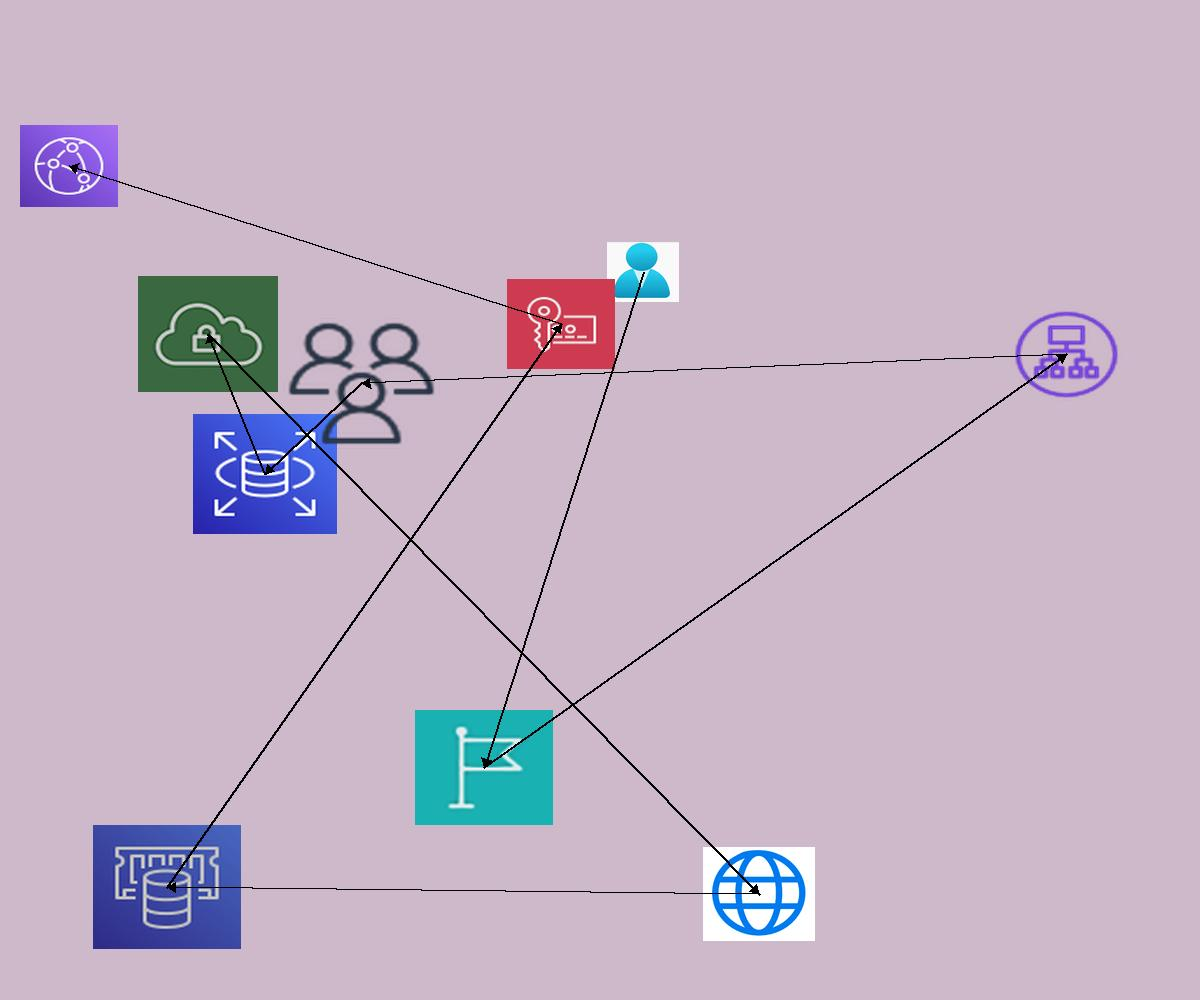AWS-CloudFront: (20, 125, 118, 207)
AWS-ElastiCache: (93, 825, 241, 949)
AWS-Key-Management-Service: (507, 279, 615, 369)
AWS-Private_vpc: (138, 276, 278, 392)
AWS-RDS: (193, 414, 337, 534)
AWS-Region: (415, 710, 553, 825)
AWS-Res_Elastic-Load-Balancing_Application-Load-Balancer: (1011, 308, 1122, 401)
AWS-Res_Users: (283, 318, 440, 449)
Azure_http: (703, 847, 815, 941)
Azure_users: (607, 242, 679, 302)
